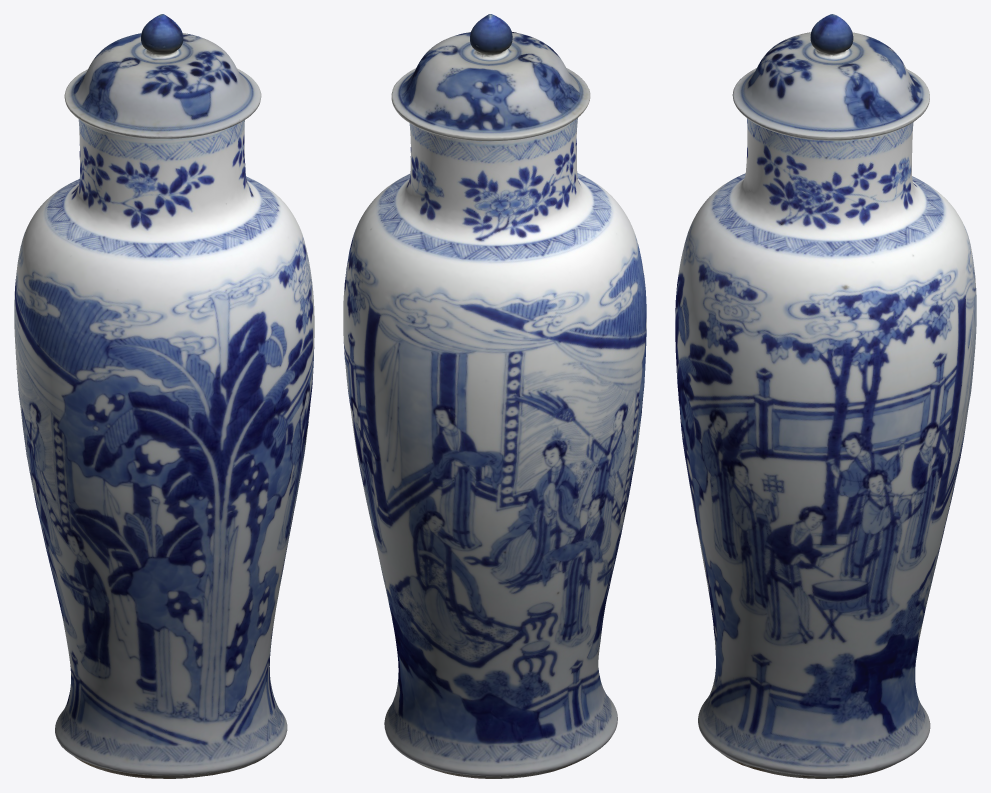
Rendered from Covered-baluster-vase.glb.
The picture shows the model from 3 angles, left to right: view 1: azimuth 30°, elevation 25°; view 2: azimuth 150°, elevation 25°; view 3: azimuth 270°, elevation 25°; orthographic projection.
Size of the model in its own units: 0.1719 by 0.4559 by 0.1722.
1 material, 1 textured.
